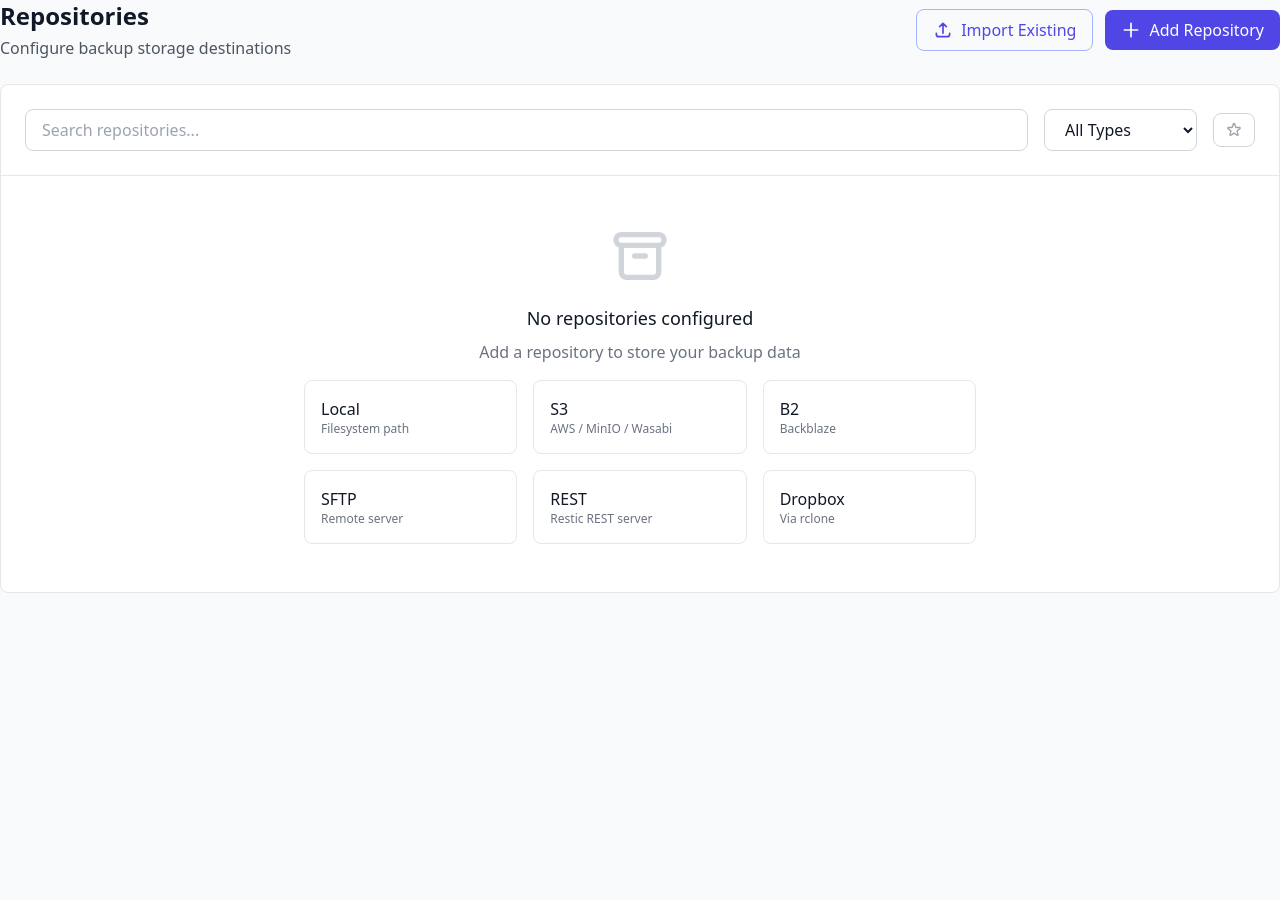
Test: Repositories › shows repository type selector in modal
Click the button "Add Repository" at (1193, 30), box x1=1105 y1=10 x2=1279 y2=50
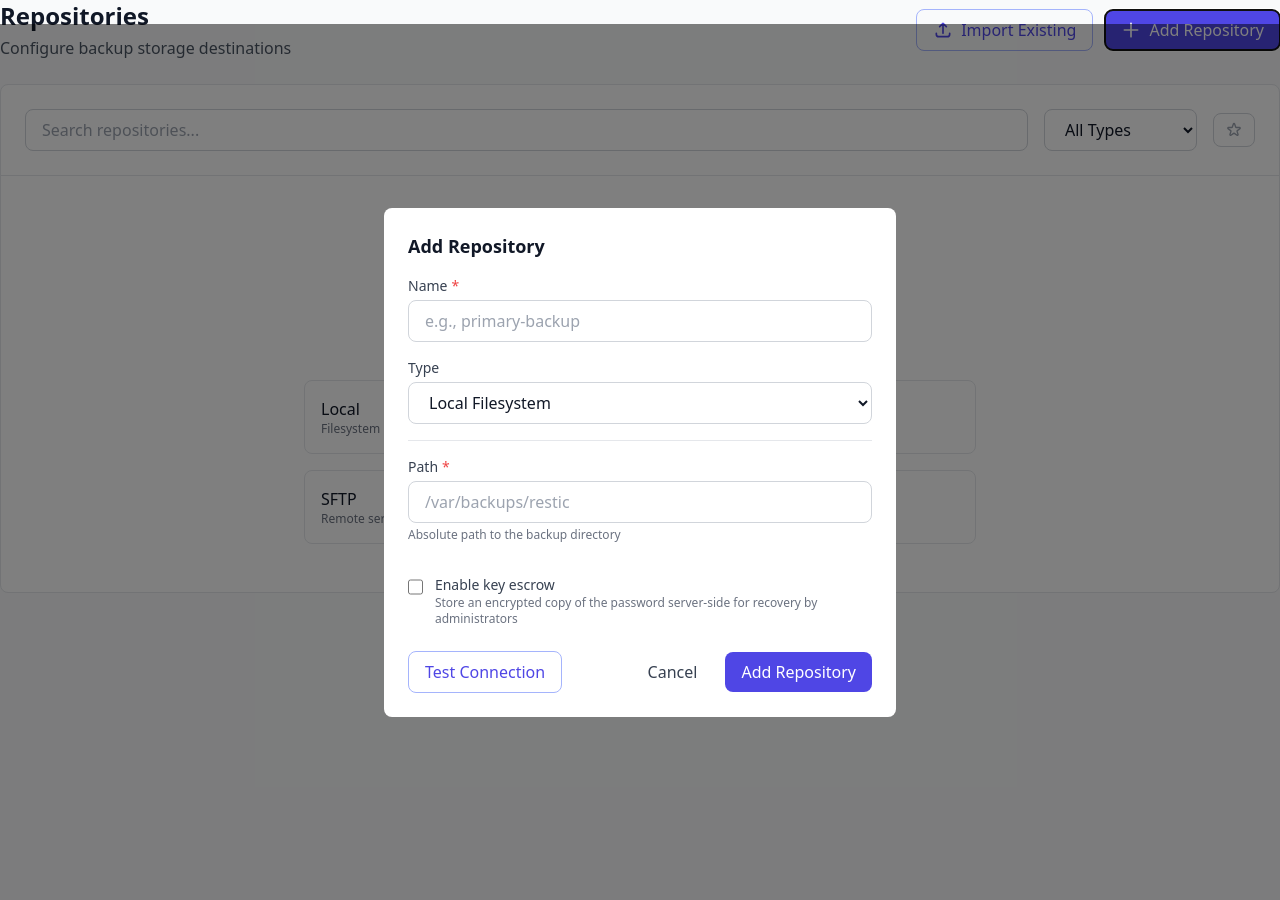
Check: the button "Test Connection" is shown, box x1=408 y1=650 x2=562 y2=692
